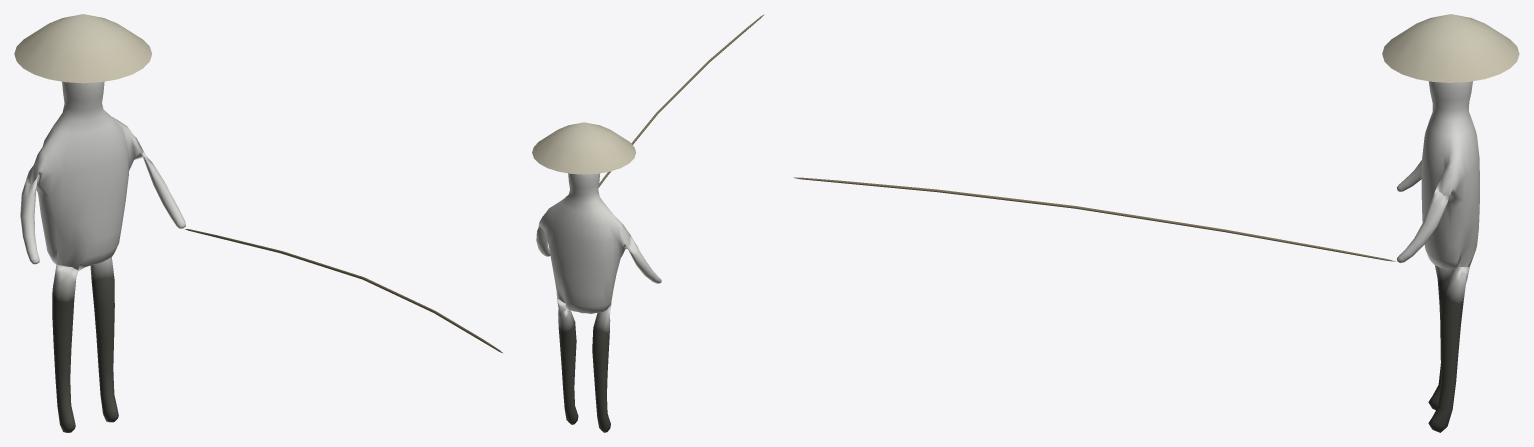
File: angler-0.glb
3 views of the same model, side by side, from view 1: azimuth 30°, elevation 25°; view 2: azimuth 150°, elevation 25°; view 3: azimuth 270°, elevation 25° (orthographic). The views are drawn at different scales.
Parts seen in each view (by area): view 1: angler; view 2: angler; view 3: angler.
Part boxes in pixels (box(x1,y1,x2,y2)): angler: box(14, 14, 502, 432); angler: box(532, 14, 764, 432); angler: box(793, 14, 1519, 432).
Size of the model in its own units: 0.7986 by 1.82 by 2.93.
